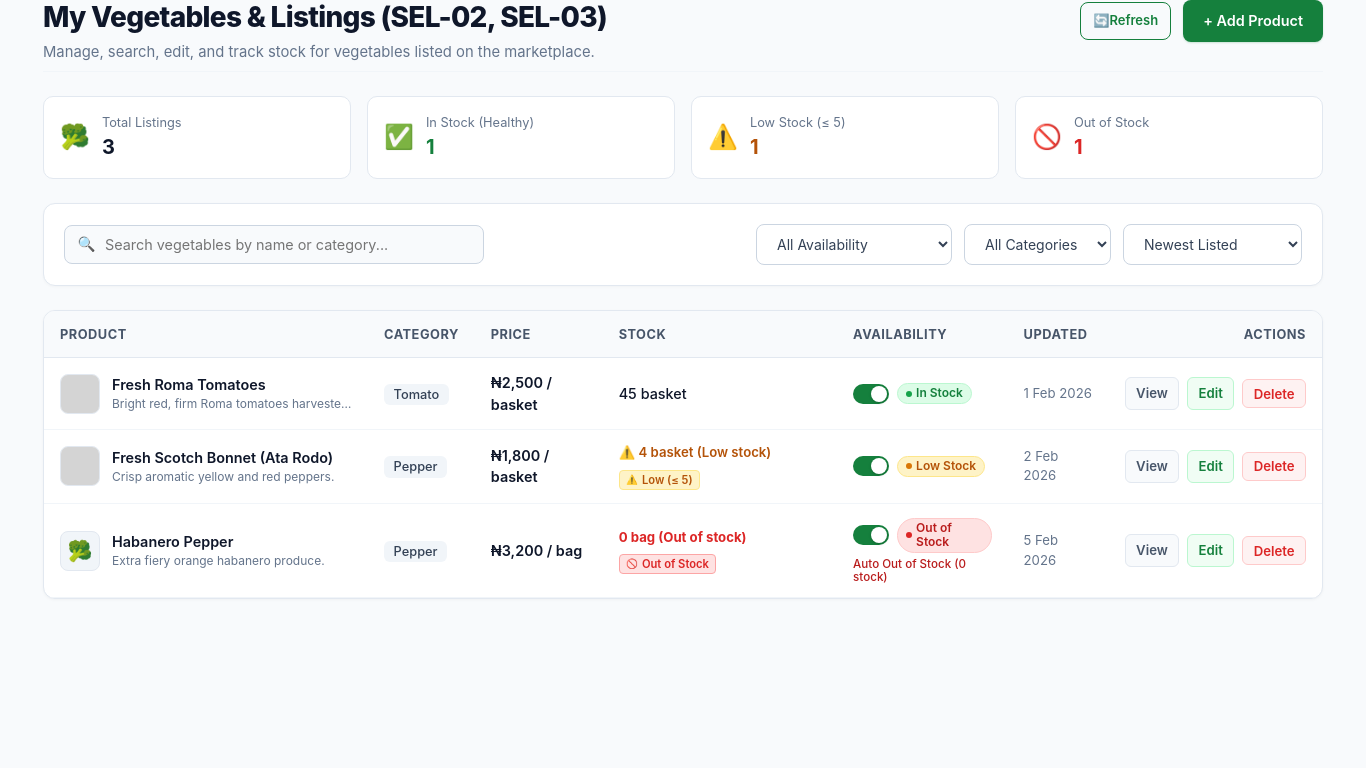
Test: FE-082 / SEL-02, SEL-03: Seller Products List Page › 5. Soft Delete Action & Confirmation Dialog (SEL-04, BR-10) › soft deletes the product upon confirmation, updates table and shows success alert (SEL-04)
What coordinates should you click on to do the following:
click the button with test id "product-delete-btn-1"
I would click on:
 (1274, 394)
Its box is left=1242, top=379, right=1306, bottom=408.
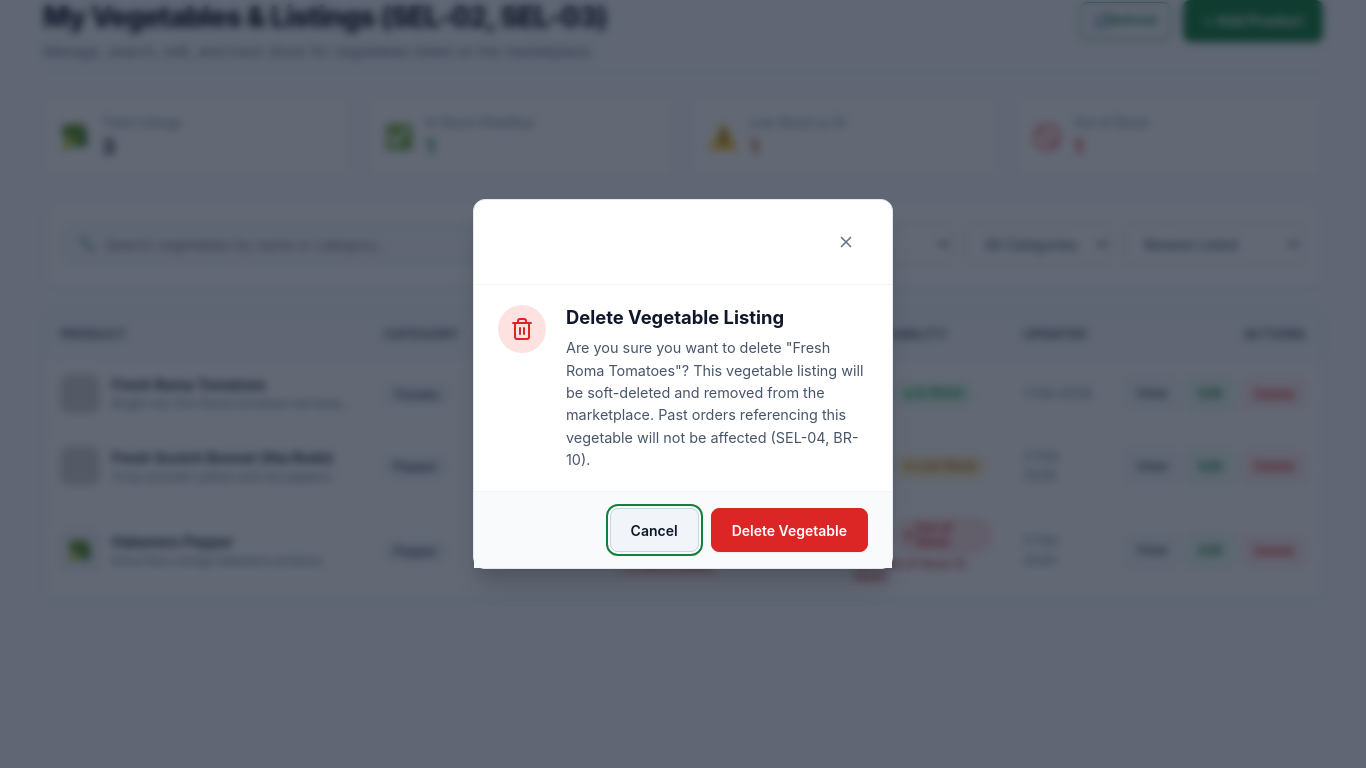
What coordinates should you click on to do the following:
click the button "Delete Vegetable"
I would click on:
 (789, 530)
Its box is left=711, top=508, right=868, bottom=552.
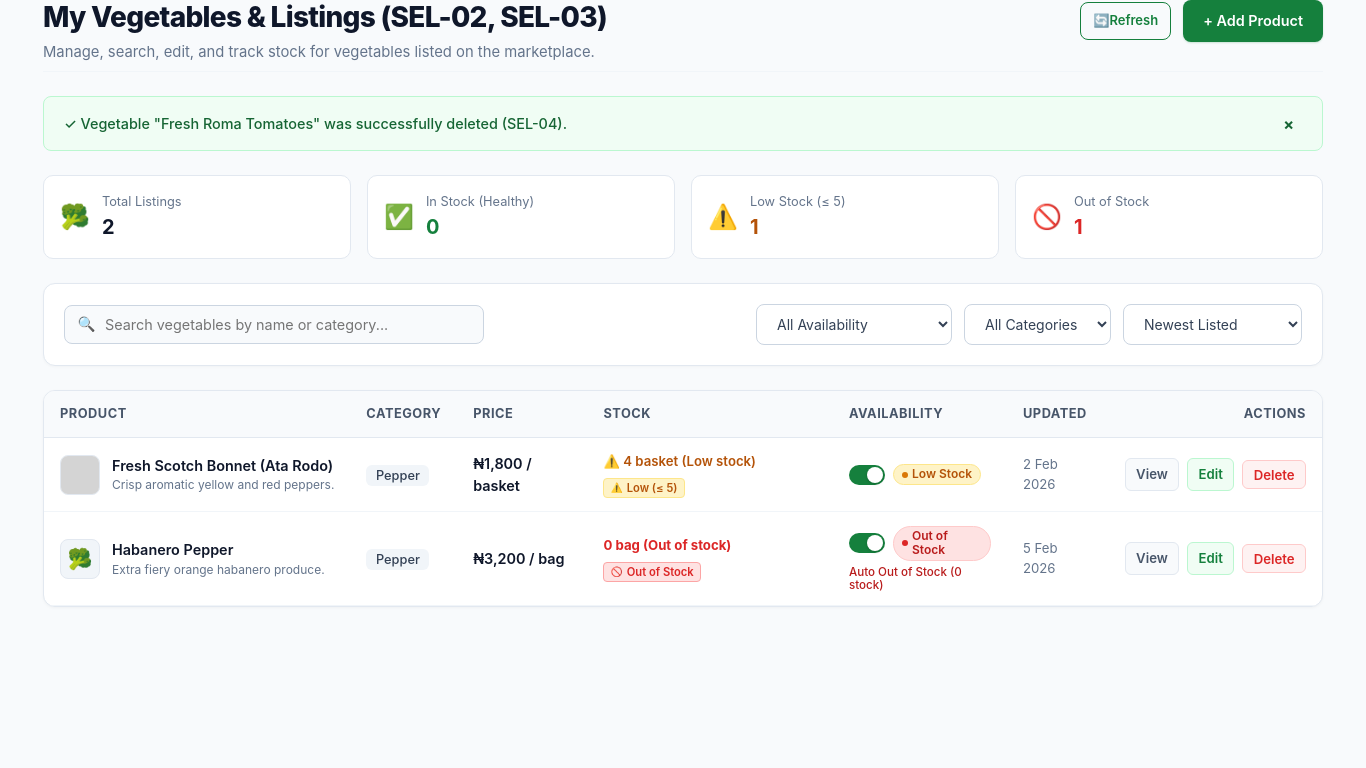
Expected: the dialog with test id "delete-product-confirm-dialog" is gone
Expected: the row with test id "product-row-1" is gone
Expected: the message with test id "products-success-alert" shows "successfully deleted (SEL-04)", left=81, top=115, right=567, bottom=132
